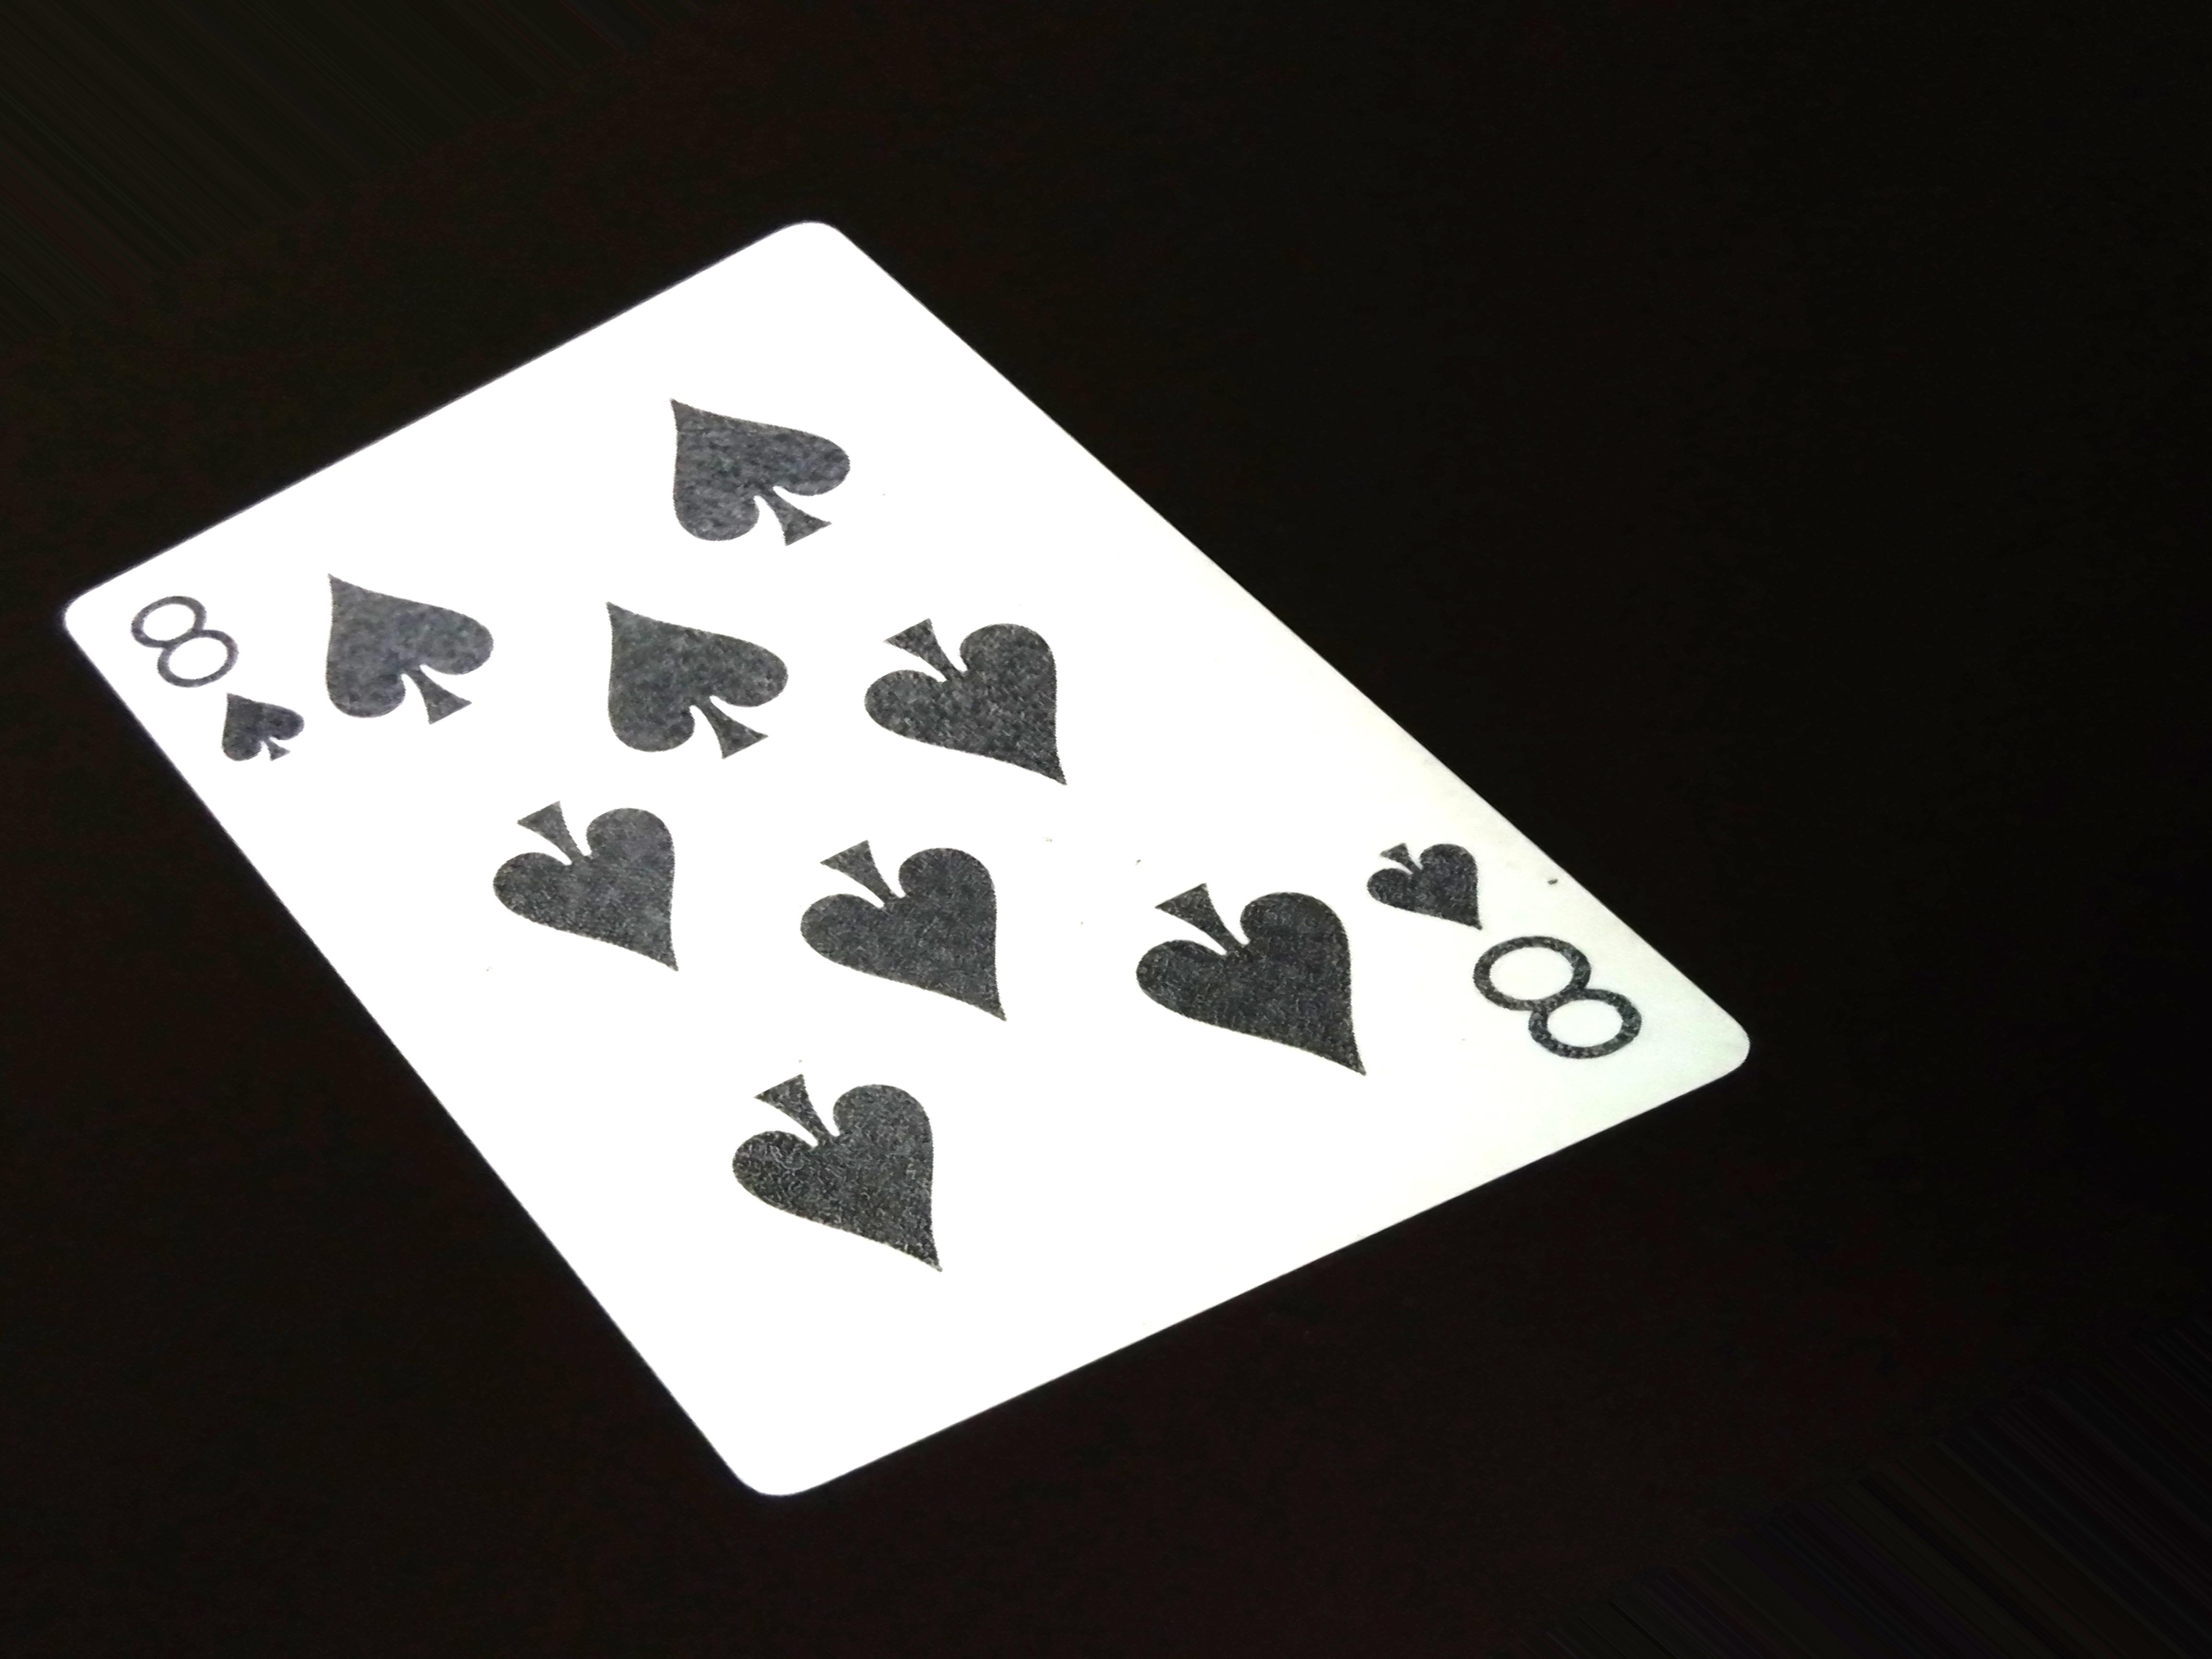8S: (1366, 810, 1632, 1101)
